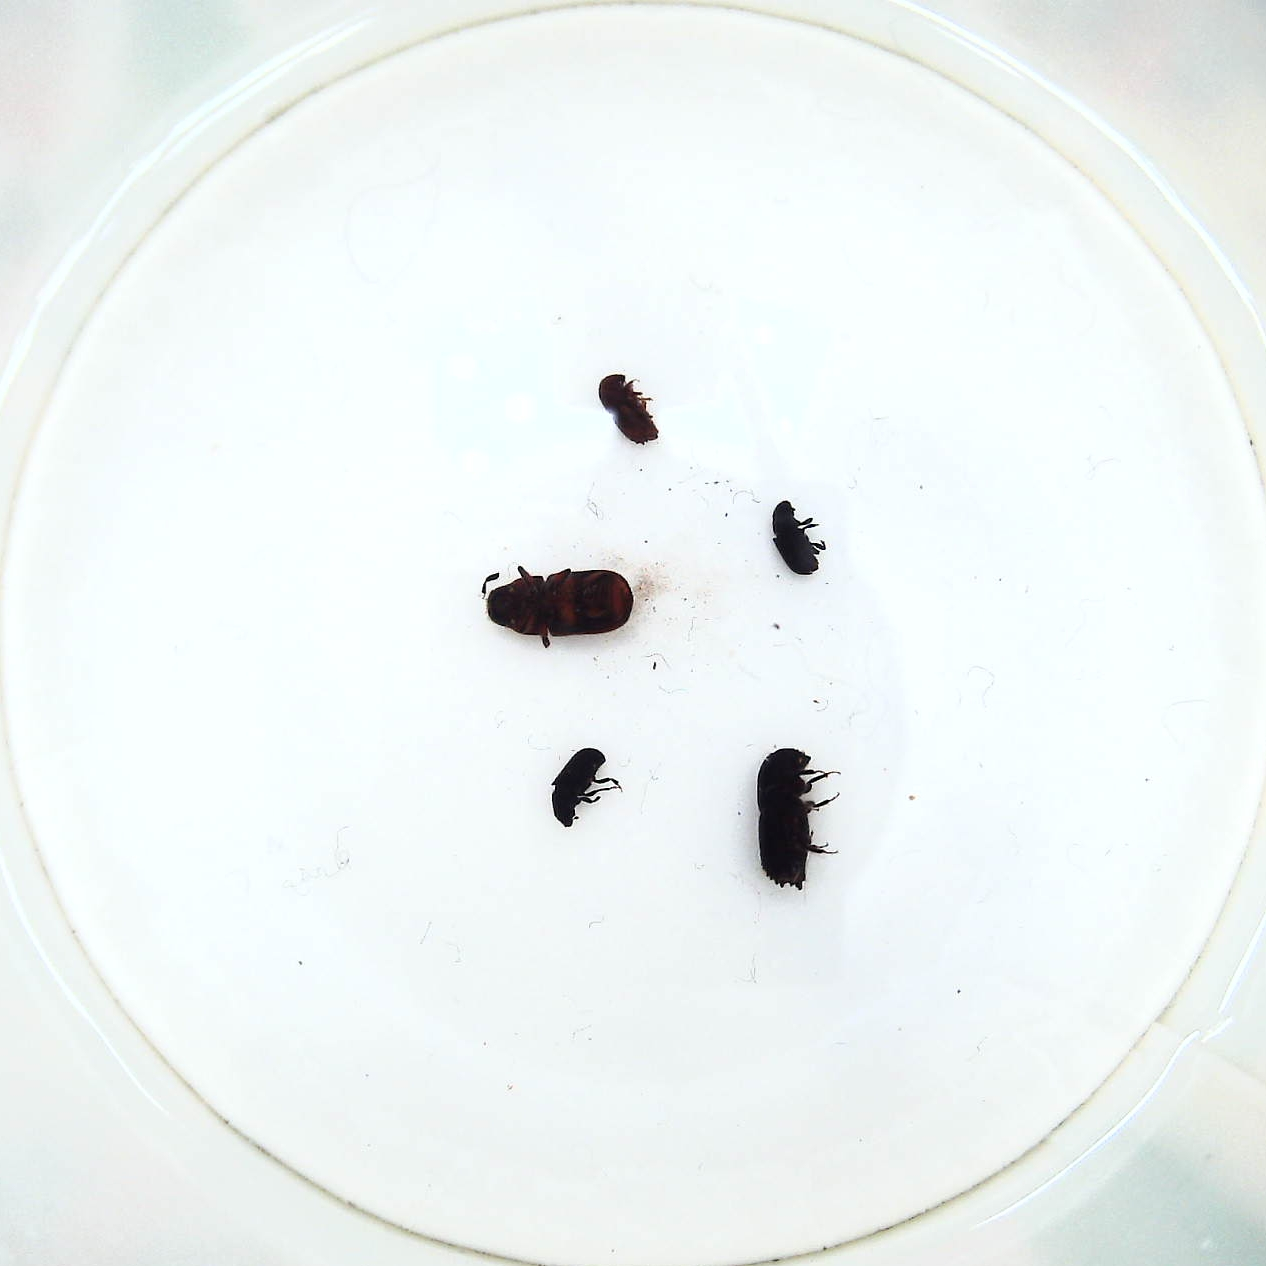Boerner: (754, 745, 849, 895)
Leconte: (486, 563, 643, 653)
armandi: (766, 492, 832, 580)
coleoptera: (550, 745, 625, 829)
linnaeus: (591, 368, 659, 448)
